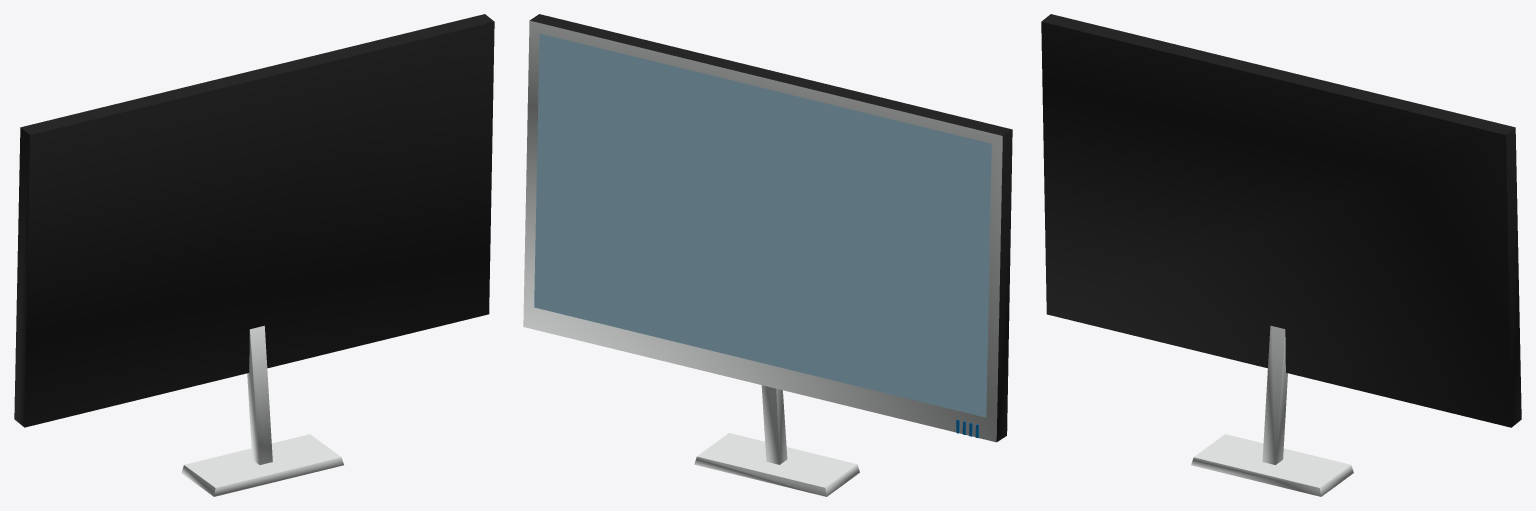
The model's file is Man hinh 1.fbx.
3 renders of one model, left to right at view 1: azimuth 30°, elevation 25°; view 2: azimuth 150°, elevation 25°; view 3: azimuth 330°, elevation 25°, orthographic.
Parts seen in each view (by area): view 1: polySurface1232; view 2: polySurface1232; view 3: polySurface1232.
Boxes of the visible parts, x1,y1,x2,y2 form: polySurface1232: (14, 14, 494, 496); polySurface1232: (523, 14, 1012, 496); polySurface1232: (1041, 14, 1521, 496).
Bounding box in the file's own units: 5603 × 4502 × 705.
